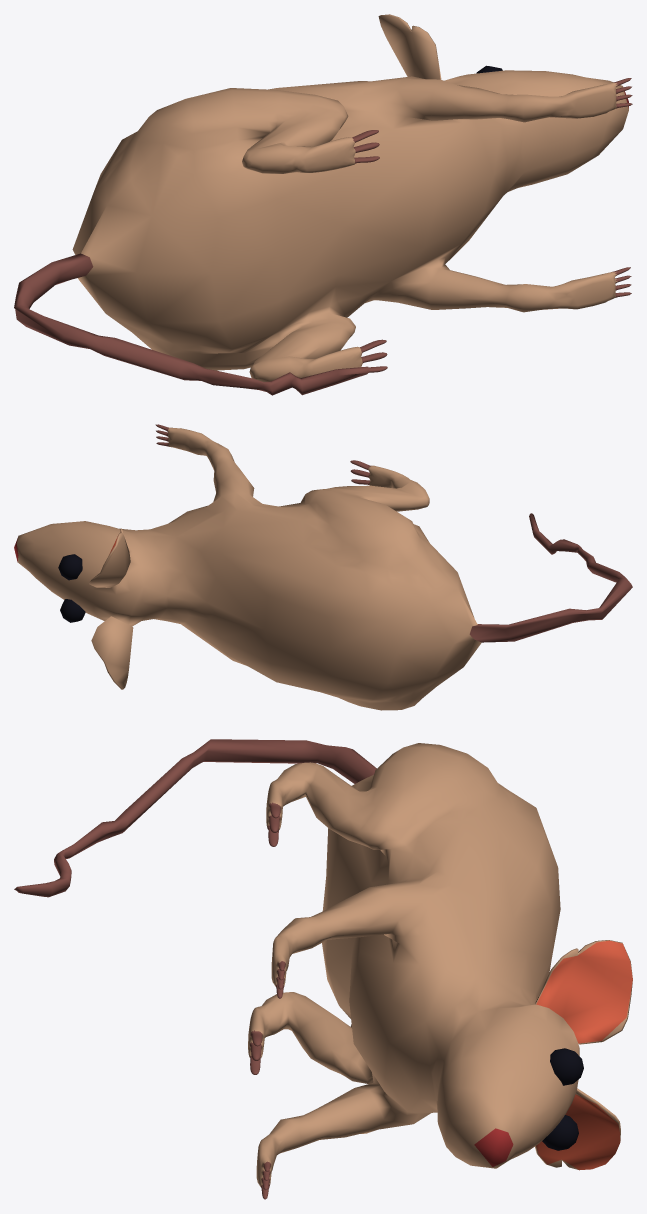
Rendered from martwySzczur.fbx.
The picture shows the model from 3 angles, top to bottom: view 1: azimuth 30°, elevation 25°; view 2: azimuth 150°, elevation 25°; view 3: azimuth 270°, elevation 25°; orthographic projection. The views are drawn at different scales.
Visible parts, largest first — view 1: Szczur; view 2: Szczur; view 3: Szczur.
Part boxes in pixels (x1,y1,x2,y2): Szczur: (14,14,632,395); Szczur: (14,424,632,710); Szczur: (14,739,632,1199).
Size of the model in its own units: 96.5 by 34.63 by 66.15.
